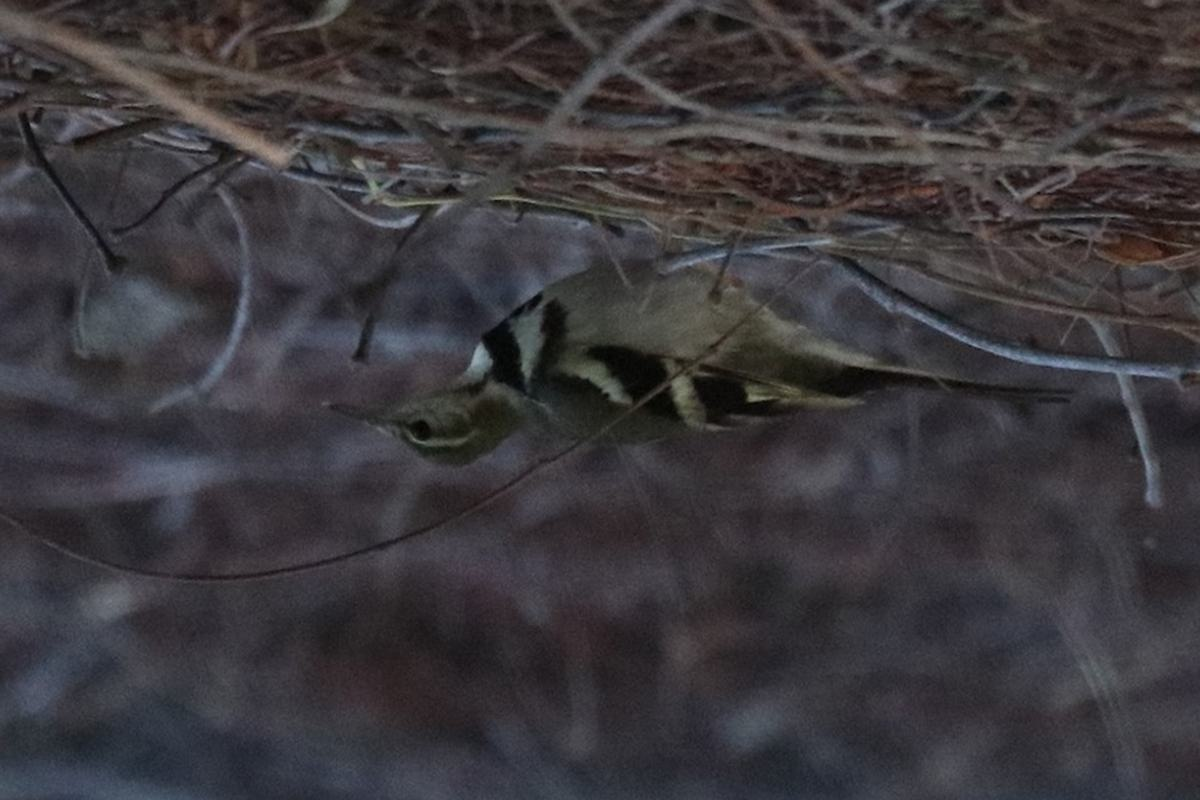wagtail: (376, 257, 868, 492)
